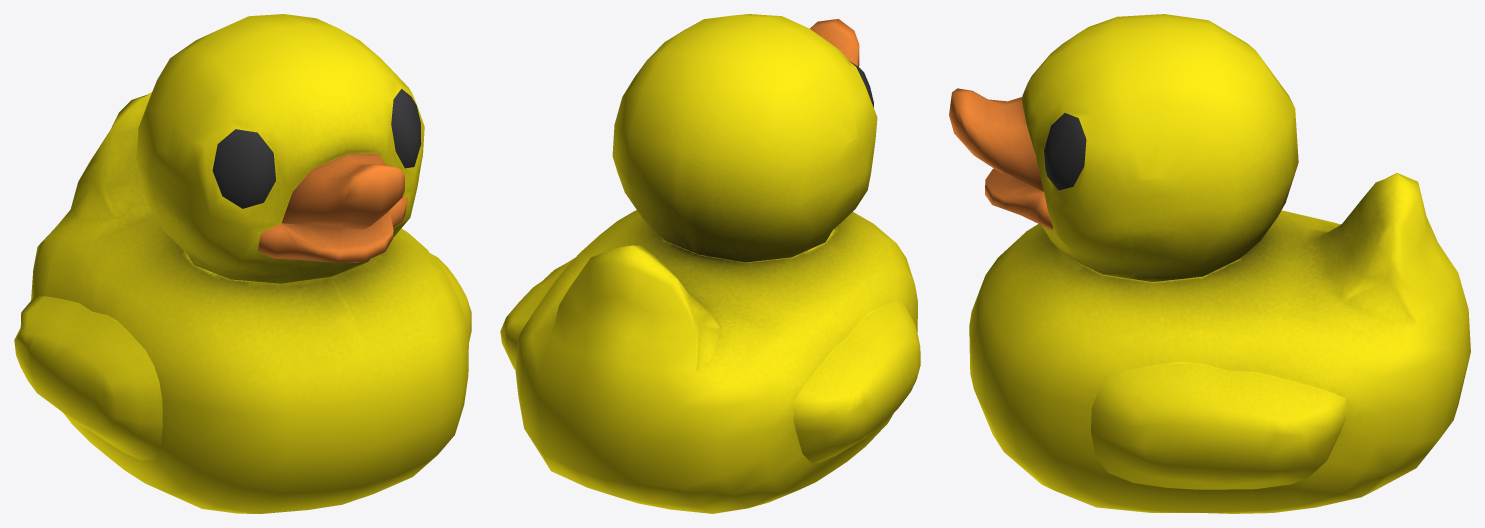
Rendered from DuckRubber_parts.fbx.
3 views of the same model, side by side, from view 1: azimuth 30°, elevation 25°; view 2: azimuth 150°, elevation 25°; view 3: azimuth 270°, elevation 25° (orthographic). The views are drawn at different scales.
Parts seen in each view (by area): view 1: DuckParts_Body, DuckParts_BeakUpper, DuckParts_BeakLower; view 2: DuckParts_Body, DuckParts_BeakUpper; view 3: DuckParts_Body, DuckParts_BeakUpper, DuckParts_BeakLower.
Boxes of the visible parts, box(x1,y1,x2,y2) form: DuckParts_Body: box(14, 14, 471, 513); DuckParts_BeakUpper: box(281, 153, 404, 229); DuckParts_BeakLower: box(257, 197, 407, 262); DuckParts_Body: box(500, 14, 920, 513); DuckParts_BeakUpper: box(810, 19, 859, 66); DuckParts_Body: box(969, 14, 1470, 513); DuckParts_BeakUpper: box(949, 88, 1043, 191); DuckParts_BeakLower: box(985, 168, 1053, 230).
Bounding box in the file's own units: 372 × 413 × 435.
1 material, 1 textured.
